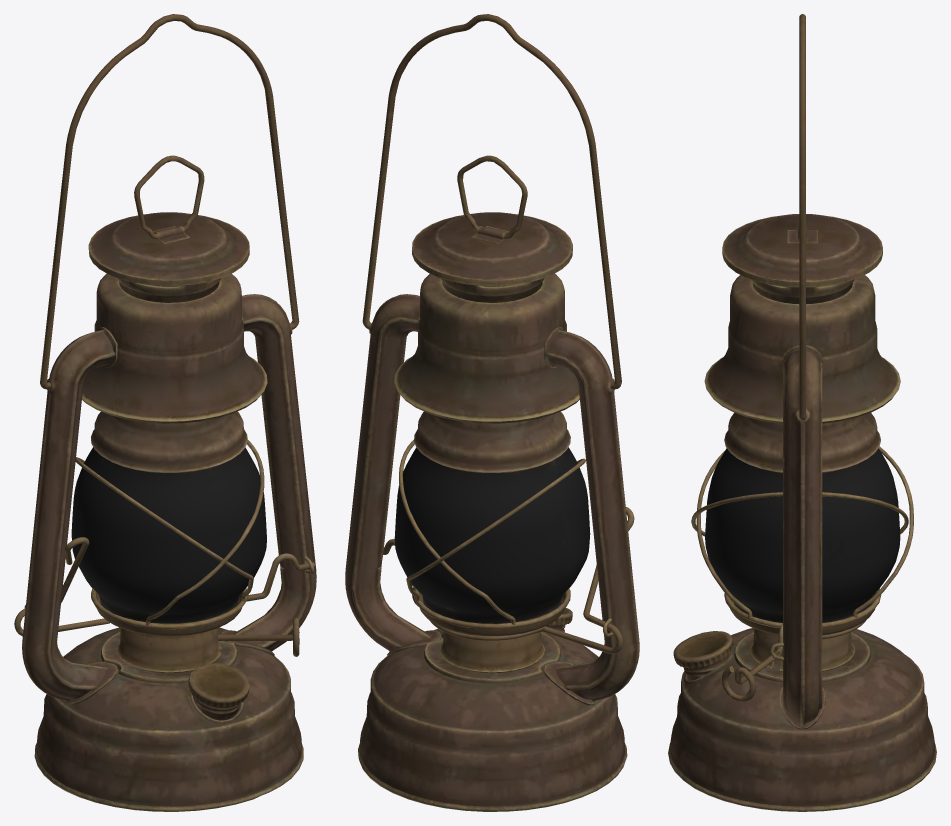
The model's file is Lantern_01.glb.
3 views of the same model, side by side, from view 1: azimuth 30°, elevation 25°; view 2: azimuth 150°, elevation 25°; view 3: azimuth 270°, elevation 25° (orthographic).
Visible parts, largest first — view 1: Lantern_01, Lantern_01_glass; view 2: Lantern_01, Lantern_01_glass; view 3: Lantern_01, Lantern_01_glass.
Boxes of the visible parts, x1,y1,x2,y2 form: Lantern_01: (14,14,316,811); Lantern_01_glass: (71,447,266,623); Lantern_01: (345,14,639,811); Lantern_01_glass: (394,447,590,623); Lantern_01: (668,14,936,811); Lantern_01_glass: (705,448,900,622).
Bounding box in the file's own units: 0.1221 × 0.2942 × 0.0971.
Materials: 2 (2 with a texture image).
